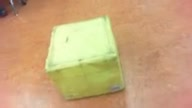cube: (44, 14, 126, 101)
